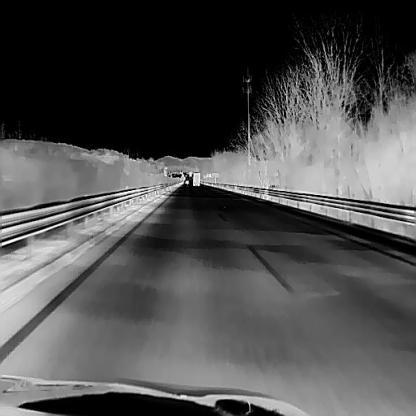car: (192, 170, 200, 185)
